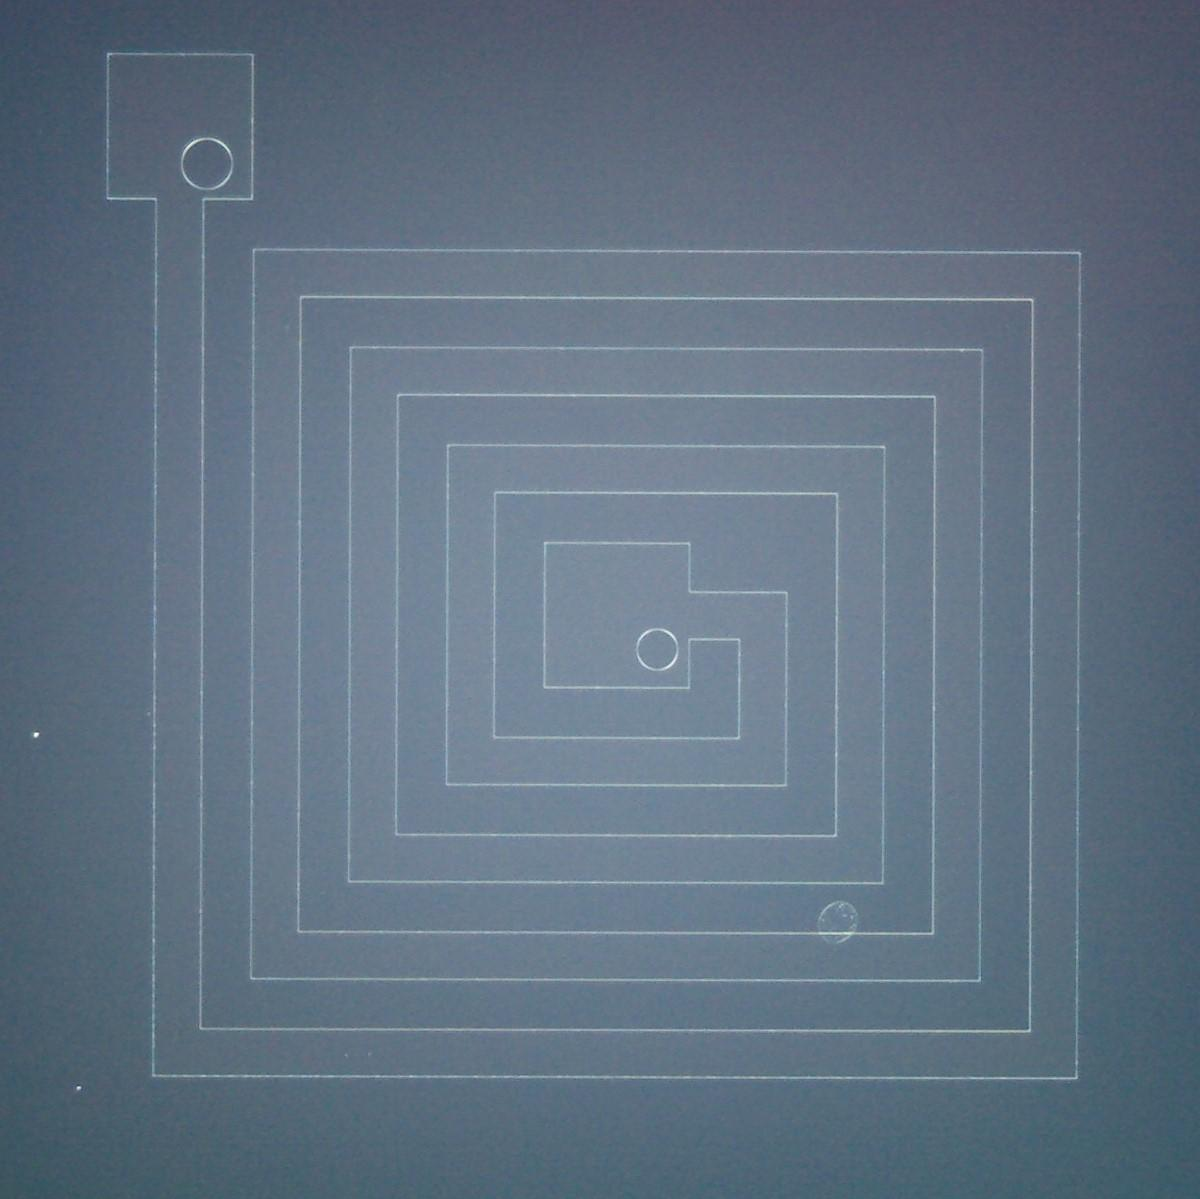circle: (180, 136, 235, 192), (635, 628, 680, 672), (817, 900, 859, 945)
s_point: (30, 728, 42, 741), (71, 1082, 83, 1095)
